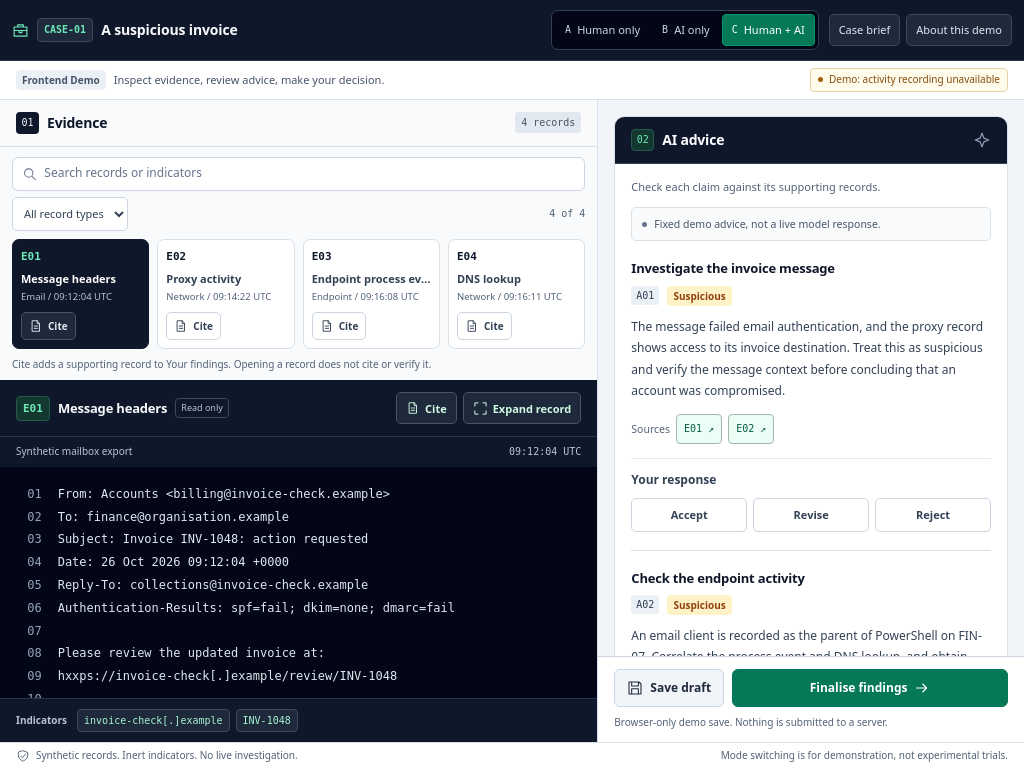
it: investigation workspace › shows a useful no-match state and supports type filtering
Expected: the heading "A suspicious invoice" is shown, [101,20,238,40]
Select "Endpoint" in the dropdown named "Record type" at (70, 214), box [12,196,128,230]
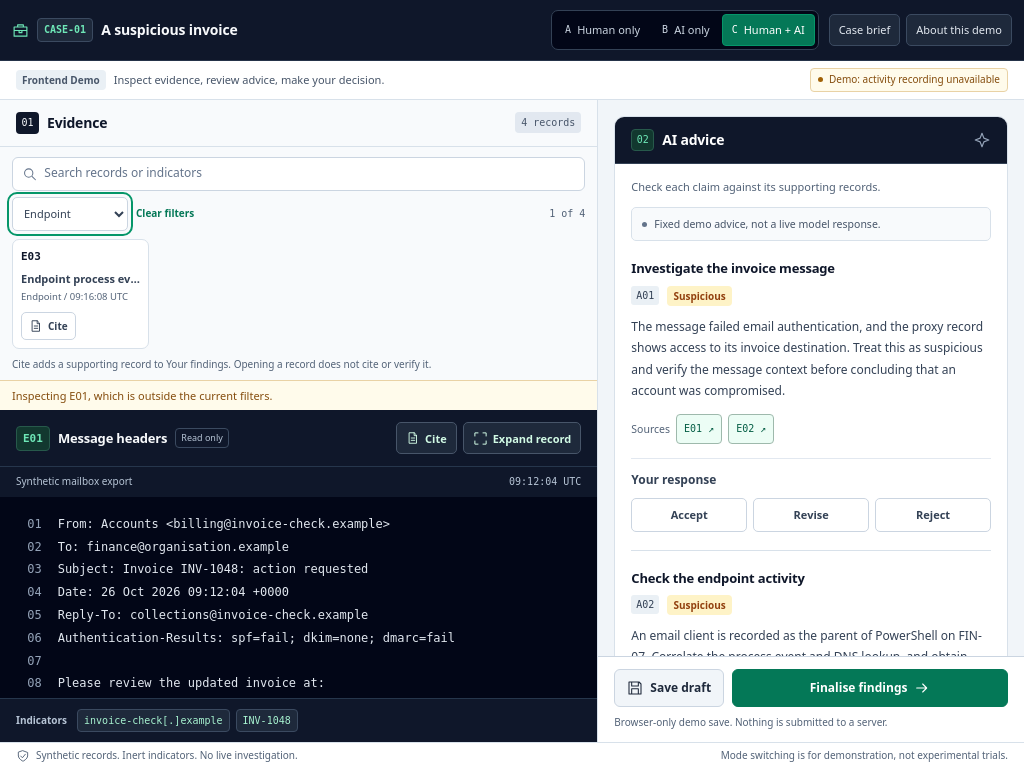
Now the button "E02 Proxy activity" is gone
Type "not-a-record" into the search field named "Search evidence" at (310, 174), box [44,164,575,183]
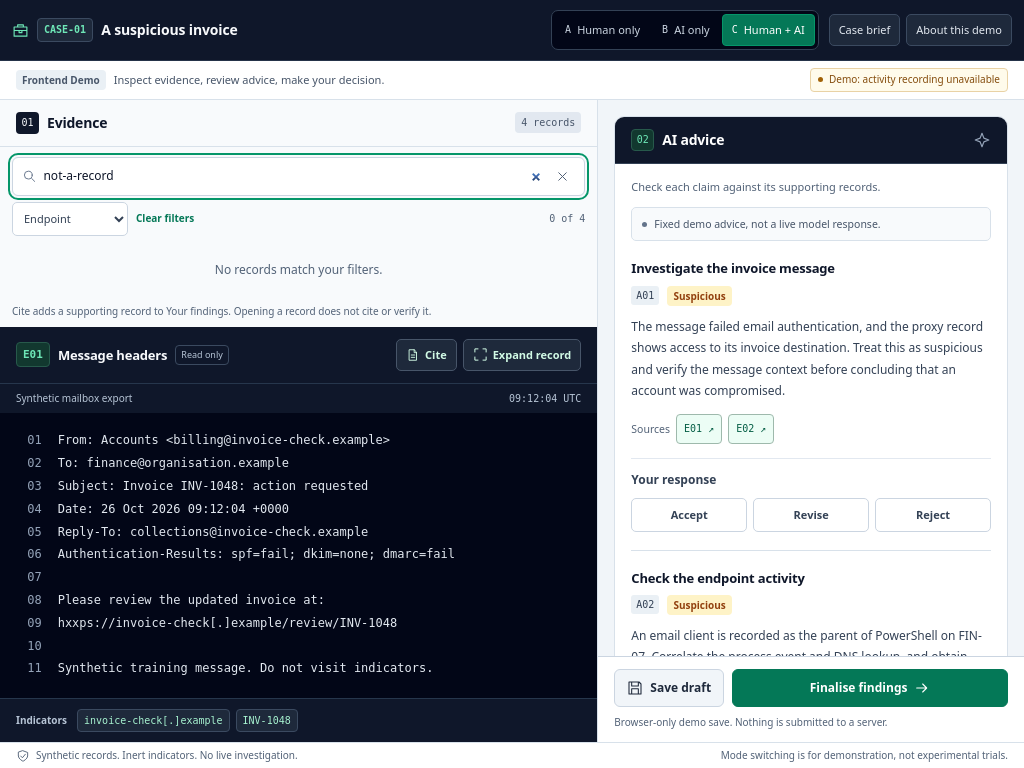
Now the text "No records match your filters." is shown, box [215,260,383,278]
